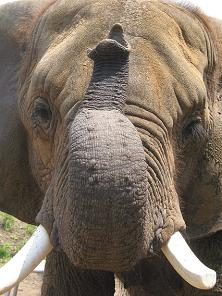elephant: (1, 1, 219, 296)
